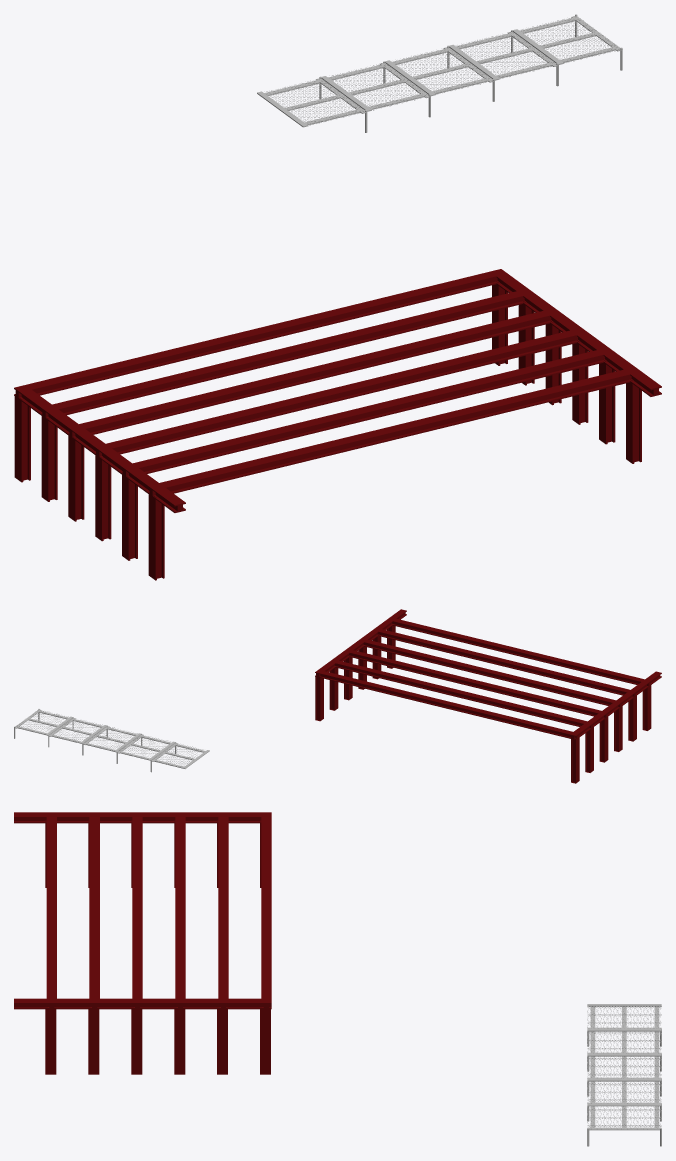
File: yuka3.fbx
The picture shows the model from 3 angles, top to bottom: view 1: azimuth 30°, elevation 25°; view 2: azimuth 150°, elevation 25°; view 3: azimuth 270°, elevation 25°; orthographic projection. The views are drawn at different scales.
Parts seen in each view (by area): view 1: 平面, 円; view 2: 平面, 円; view 3: 平面, 円.
Part boxes in pixels (bbox=[...]): 平面: bbox=[14, 269, 661, 580]; 円: bbox=[257, 14, 622, 132]; 平面: bbox=[315, 609, 661, 783]; 円: bbox=[14, 709, 209, 772]; 平面: bbox=[14, 812, 271, 1074]; 円: bbox=[587, 1004, 661, 1146].
Bounding box in the file's own units: 78391 × 8331 × 68109.
